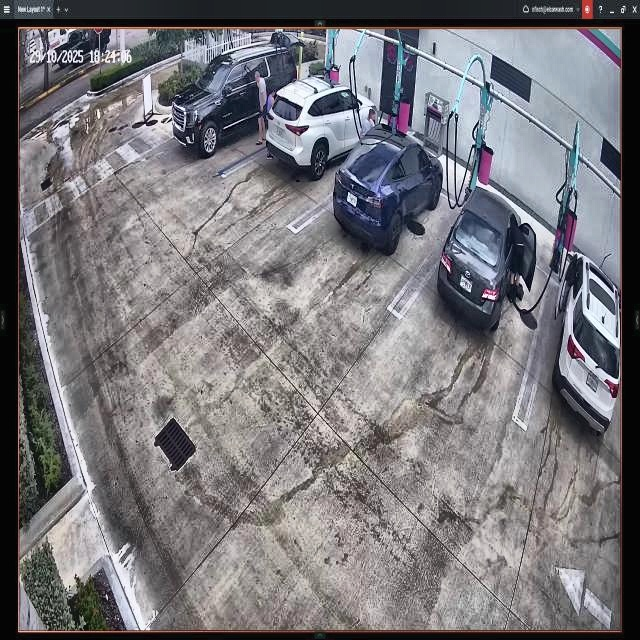Car: (172, 44, 296, 157), (438, 185, 535, 325), (333, 124, 443, 244), (266, 80, 377, 170)
